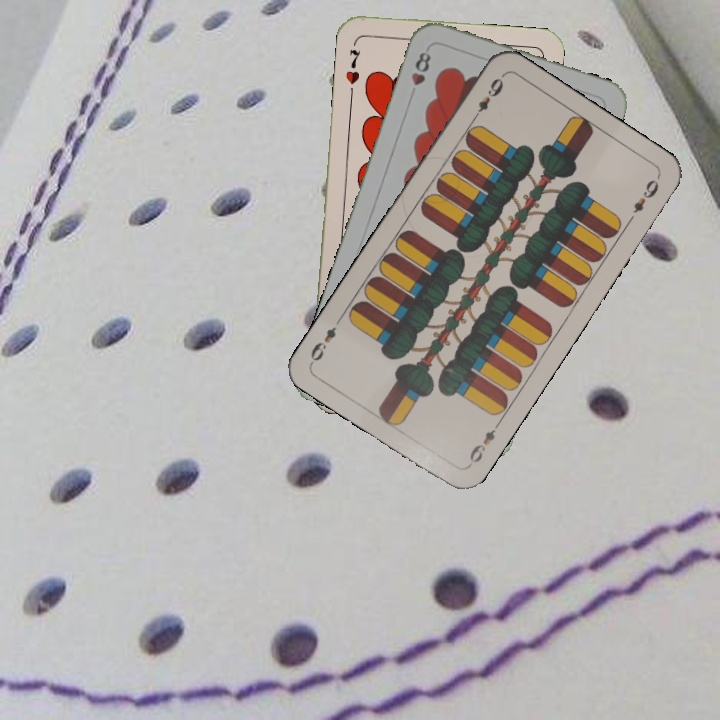E9: (464, 417, 503, 469), (468, 74, 507, 124)
H7: (341, 45, 363, 87)
H8: (405, 47, 434, 101)
